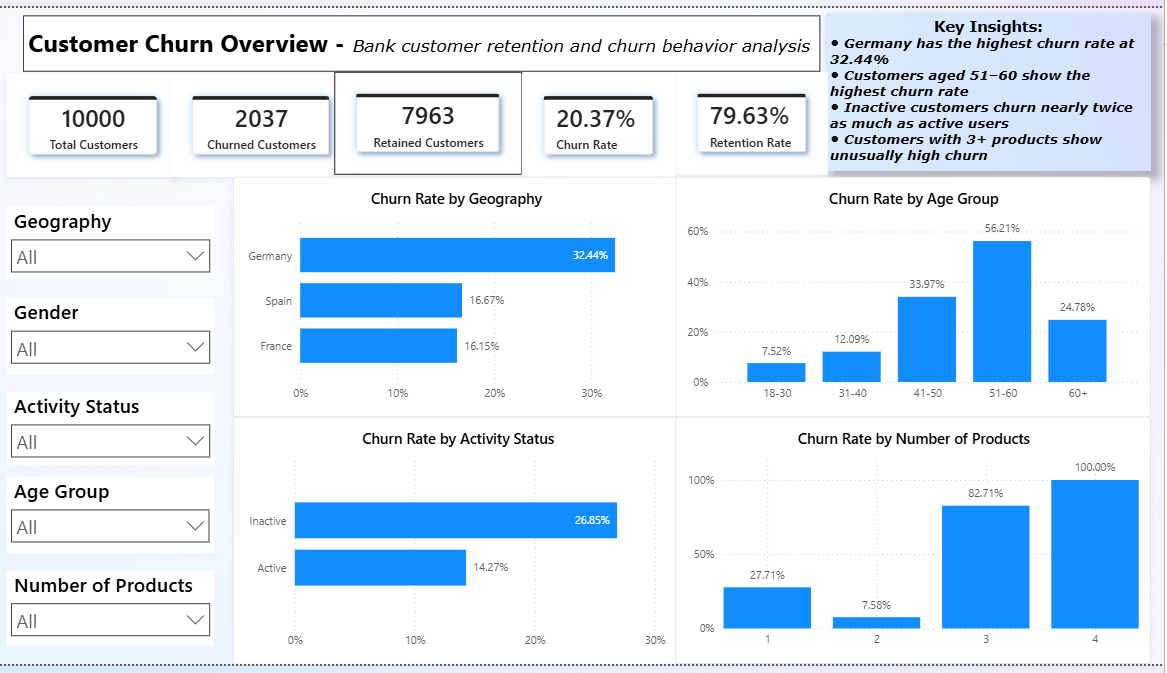

Layout of this report page (visuals, bound fields, positions):
{"tool":"powerbi","page":{"name":"Overall Churn","canvas":[1280,720],"ordinal":0},"visuals":[{"type":"textbox","box":[908,5,357.8,173.9],"z":0},{"type":"cardVisual","fields":{"Data":["bank_churn_cleaned.Total Customers"]},"box":[9.6,72.7,189.4,112.5],"z":2000},{"type":"cardVisual","fields":{"Data":["bank_churn_cleaned.Churned Customers"]},"box":[189.4,72.7,199,112.5],"z":3000},{"type":"cardVisual","fields":{"Data":["bank_churn_cleaned.Retained Customers"]},"box":[369.1,70,205.8,112.5],"z":4000},{"type":"cardVisual","fields":{"Data":["bank_churn_cleaned.Retention Rate"]},"box":[743.7,70,167.4,112.5],"z":5000},{"type":"cardVisual","fields":{"Data":["bank_churn_cleaned.Churn Rate"]},"box":[575,72.7,168.8,112.5],"z":6000},{"type":"textbox","box":[27,8,875.5,61.7],"z":6500},{"type":"clusteredBarChart","title":"Churn Rate by Geography","fields":{"Category":["bank_churn_cleaned.Geography"],"Y":["bank_churn_cleaned.Churn Rate"]},"box":[258,185.3,488.9,263.7],"z":7000},{"type":"clusteredBarChart","fields":{"Category":["bank_churn_cleaned.Activity Status"],"Y":["bank_churn_cleaned.Churn Rate"]},"box":[258,448.7,492.6,271.7],"z":8000},{"type":"clusteredColumnChart","title":"Churn Rate by Number of Products","fields":{"Category":["bank_churn_cleaned.NumOfProducts"],"Y":["bank_churn_cleaned.Churn Rate"]},"box":[744.1,449,521.7,270.8],"z":9000},{"type":"slicer","fields":{"Values":["bank_churn_cleaned.Geography"]},"box":[10,218.1,228.1,78.4],"z":10000},{"type":"slicer","fields":{"Values":["bank_churn_cleaned.Gender"]},"box":[10,317.9,228.1,84.1],"z":11000},{"type":"slicer","fields":{"Values":["bank_churn_cleaned.AgeGroup"]},"box":[9.6,514.6,227.8,83.7],"z":12000},{"type":"slicer","fields":{"Values":["bank_churn_cleaned.Activity Status"]},"box":[10,421.9,228.1,79.8],"z":13000},{"type":"slicer","fields":{"Values":["bank_churn_cleaned.NumOfProducts"]},"box":[10,617.2,228.1,82.7],"z":14000},{"type":"clusteredColumnChart","title":"Churn Rate by Age Group","fields":{"Category":["bank_churn_cleaned.AgeGroup"],"Y":["bank_churn_cleaned.Churn Rate"]},"box":[744.1,185.3,521.7,263.7],"z":15000}]}

Visuals, with their boxes in screenshot pixels (x1, y1, x2, y2), scaled from the page's 1280x720 canvas onto the 1167x673 screenshot:
textbox: region(828, 5, 1154, 167)
cardVisual - bank_churn_cleaned.Total Customers: region(9, 68, 181, 173)
cardVisual - bank_churn_cleaned.Churned Customers: region(173, 68, 354, 173)
cardVisual - bank_churn_cleaned.Retained Customers: region(337, 65, 524, 171)
cardVisual - bank_churn_cleaned.Retention Rate: region(678, 65, 831, 171)
cardVisual - bank_churn_cleaned.Churn Rate: region(524, 68, 678, 173)
textbox: region(25, 7, 823, 65)
"Churn Rate by Geography" clusteredBarChart: region(235, 173, 681, 420)
clusteredBarChart - bank_churn_cleaned.Activity Status x bank_churn_cleaned.Churn Rate: region(235, 419, 684, 672)
"Churn Rate by Number of Products" clusteredColumnChart: region(678, 420, 1154, 672)
slicer - bank_churn_cleaned.Geography: region(9, 204, 217, 277)
slicer - bank_churn_cleaned.Gender: region(9, 297, 217, 376)
slicer - bank_churn_cleaned.AgeGroup: region(9, 481, 216, 559)
slicer - bank_churn_cleaned.Activity Status: region(9, 394, 217, 469)
slicer - bank_churn_cleaned.NumOfProducts: region(9, 577, 217, 654)
"Churn Rate by Age Group" clusteredColumnChart: region(678, 173, 1154, 420)
